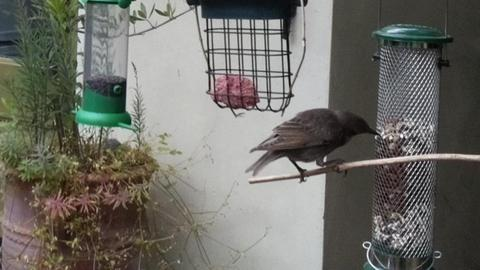starling: (244, 108, 380, 184)
